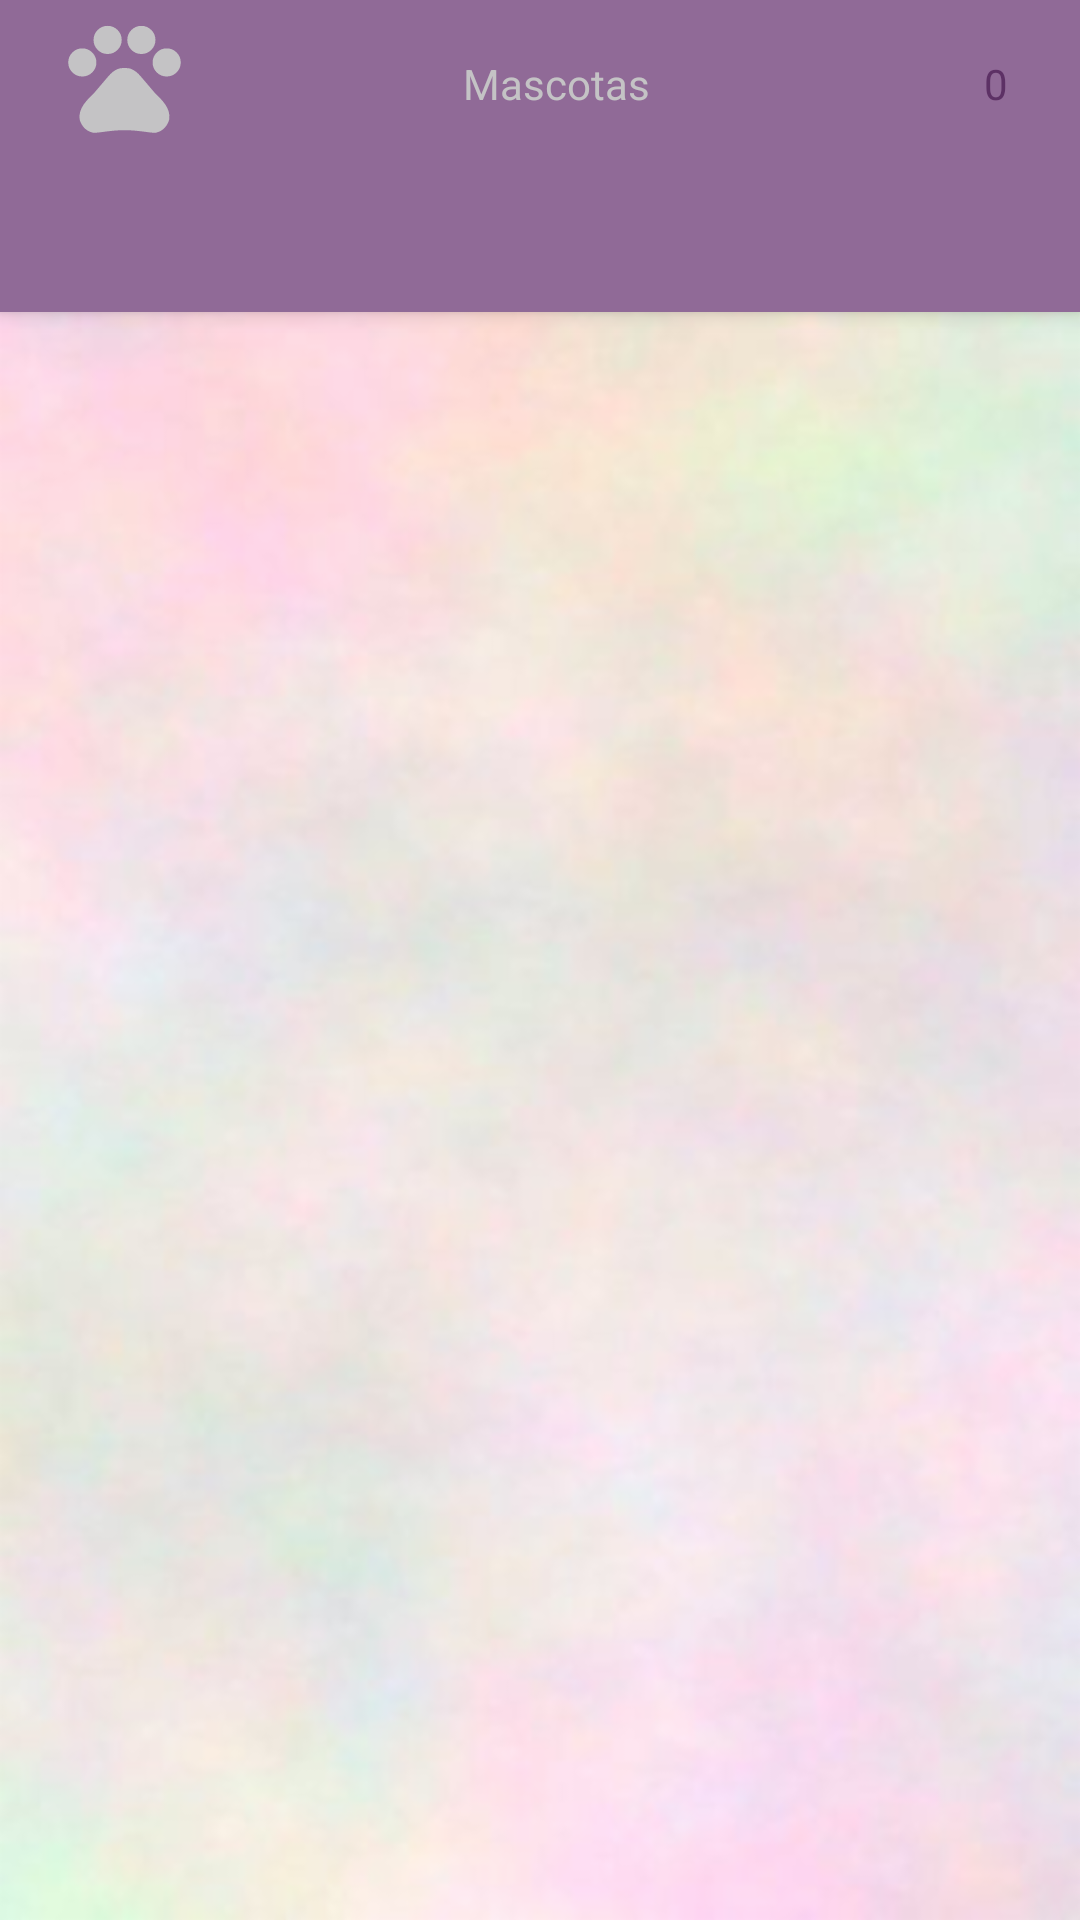

Icons on this 1080x1920 Android screen, each with the point to tap as (x,y):
pets: (124,79)
